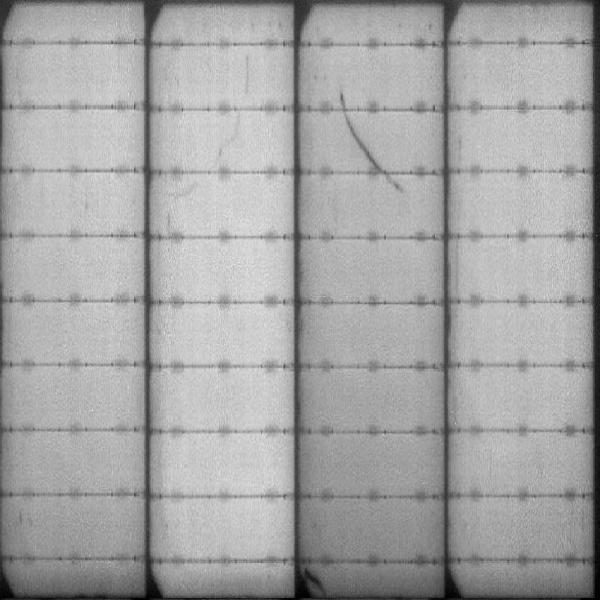scratch: (328, 91, 406, 191), (304, 562, 337, 594)
